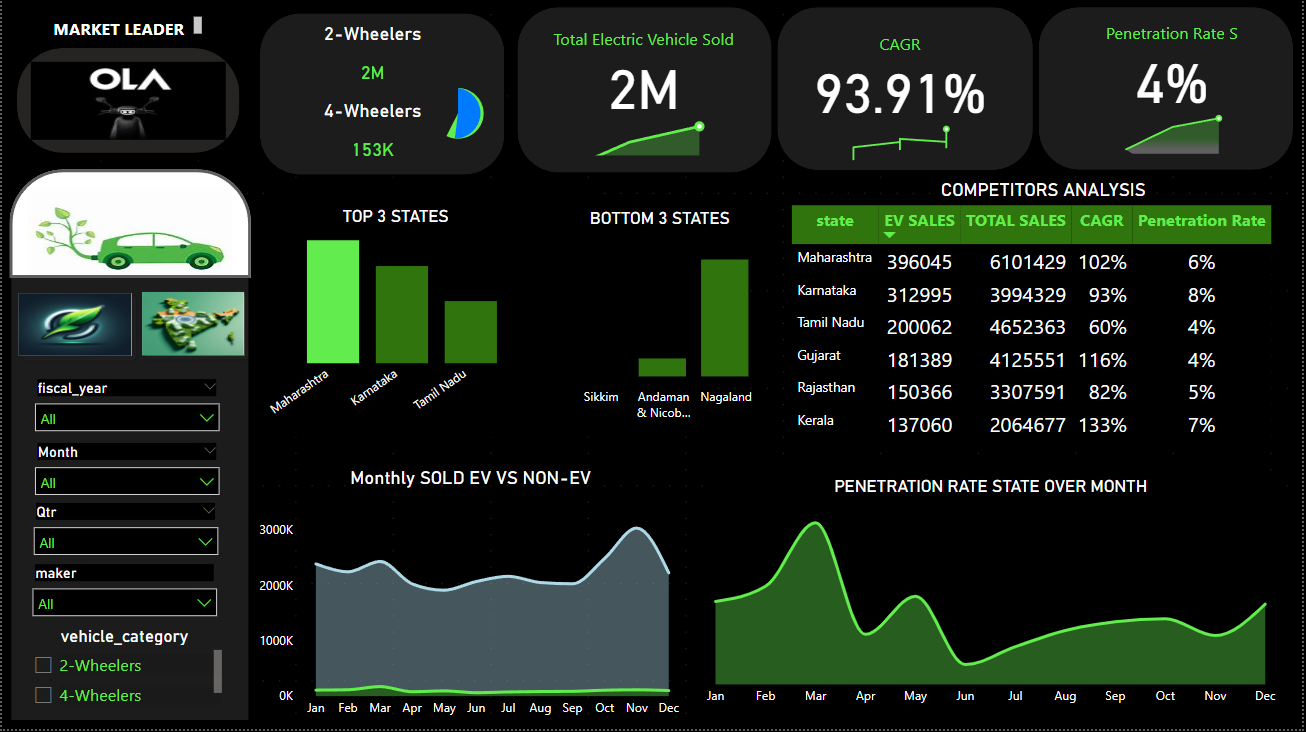

The page's visual inventory and layout, read from the dashboard file:
{"tool":"powerbi","page":{"name":"STATE","canvas":[1280,720],"ordinal":2},"visuals":[{"type":"shape","box":[0,163.5,251.8,556.5],"z":0,"group":"g7"},{"type":"shape","box":[771.3,187.7,470.3,251.8],"z":0,"group":"g5"},{"type":"shape","box":[247.7,176.7,279.7,267.1],"z":1000,"group":"g2"},{"type":"pivotTable","title":"COMPETITORS ANALYSIS","fields":{"Values":["Sum(electric_vehicle_sales_by_state.electric_vehicles_sold)","Sum(electric_vehicle_sales_by_state.total_vehicles_sold)","electric_vehicle_sales_by_state.CAGR_s","electric_vehicle_sales_by_state.Penetration Rate S"],"Rows":["electric_vehicle_sales_by_state.state"]},"box":[772.2,178.8,504.6,273.2],"z":1000,"group":"g5"},{"type":"slicer","fields":{"Values":["dim_date.fiscal_year"]},"box":[22.3,370.1,201.7,62.6],"z":1000,"group":"g7"},{"type":"shape","box":[523.8,188.2,178.1,251.8],"z":2000,"group":"g3"},{"type":"slicer","fields":{"Values":["Calender.Month"]},"box":[22.3,432.7,201.7,58.4],"z":2000,"group":"g7"},{"type":"columnChart","title":"BOTTOM 3 STATES","fields":{"Category":["electric_vehicle_sales_by_state.state"],"Y":["Sum(electric_vehicle_sales_by_state.electric_vehicles_sold)"]},"box":[527.4,206.5,239.3,217],"z":3000,"group":"g3"},{"type":"slicer","fields":{"Values":["Calender.Qtr"]},"box":[20.9,492.5,201.7,59.8],"z":3000,"group":"g7"},{"type":"slicer","title":"vehicle_category","fields":{"Values":["electric_vehicle_sales_by_makers.vehicle_category"]},"box":[19.5,617.8,201.7,83.5],"z":4000,"group":"g7"},{"type":"columnChart","title":"TOP 3 STATES","fields":{"Category":["electric_vehicle_sales_by_state.state"],"Y":["Sum(electric_vehicle_sales_by_state.electric_vehicles_sold)"]},"box":[252.2,203.6,270.2,223.5],"z":5000,"group":"g2"},{"type":"slicer","fields":{"Values":["electric_vehicle_sales_by_makers.maker"]},"box":[19.5,552.4,201.7,62.6],"z":5000,"group":"g7"},{"type":"actionButton","box":[7,168.4,237.9,107.1],"z":6000,"group":"g7"},{"type":"shape","box":[0,0,251.8,168.3],"z":7000},{"type":"shape","box":[498.5,0,268.3,180.9],"z":8000},{"type":"shape","box":[754.5,0,269.5,178.5],"z":9000},{"type":"shape","box":[1011.5,0,268.5,178.1],"z":10000},{"type":"cardVisual","fields":{"Data":["electric_vehicle_sales_by_state.Penetration Rate S"]},"box":[1024,5.6,256,161.4],"z":11000},{"type":"textbox","box":[45.9,13.9,155.8,29.2],"z":12000},{"type":"actionButton","box":[14.8,49.2,219.1,103.4],"z":13000},{"type":"group","id":"g1","title":"Group 1","box":[249,180.9,345,251.8],"z":14000},{"type":"stackedAreaChart","title":"Monthly SOLD EV VS NON-EV","fields":{"Y":["Sum(electric_vehicle_sales_by_state.electric_vehicles_sold)","Sum(electric_vehicle_sales_by_state.Non_electric_vehicle)"],"Category":["Calender.Month"]},"box":[249,461.9,425.7,256],"z":15000},{"type":"group","id":"g2","title":"Group 3","box":[247.7,176.7,279.7,267.1],"z":16000},{"type":"cardVisual","fields":{"Data":["electric_vehicle_sales_by_makers.CAGR"]},"box":[772.2,13.9,225.4,175.3],"z":17000},{"type":"group","id":"g3","title":"Group 2","box":[523.8,188.2,242.9,251.8],"z":18000},{"type":"group","id":"g4","title":"Group 4","box":[674.5,461.5,604.3,256],"z":19000},{"type":"group","id":"g5","title":"Group 7","box":[771.3,178.8,505.5,273.2],"z":20000},{"type":"shape","box":[249,180.9,345.3,251.6],"z":20000,"group":"g1"},{"type":"shape","box":[674.5,461.5,604.3,256],"z":20000,"group":"g4"},{"type":"cardVisual","fields":{"Data":["Sum(electric_vehicle_sales_by_makers.electric_vehicles_sold)"]},"box":[492.5,0,279.7,172.5],"z":21000},{"type":"stackedAreaChart","title":" PENETRATION RATE STATE  OVER MONTH","fields":{"Category":["Calender.Month","electric_vehicle_sales_by_state.state"],"Y":["electric_vehicle_sales_by_state.Penetration Rate S"]},"box":[678.8,470.7,590.5,234.9],"z":21000,"group":"g4"},{"type":"shape","box":[244.9,5.6,258.8,176.7],"z":22000},{"type":"group","id":"g6","title":"Group 5","box":[224,0,282.4,281],"z":23000},{"type":"cardVisual","fields":{"Data":["Min(electric_vehicle_sales_by_state.vehicle_category)","MEASURE.sold_of_2-wheelers","Max(electric_vehicle_sales_by_state.vehicle_category)","MEASURE.sold_of_4-wheelers"]},"box":[278,0,219.8,281],"z":23000,"group":"g6"},{"type":"cardVisual","fields":{"Data":["Min(electric_vehicle_sales_by_state.vehicle_category)","MEASURE.sold_of_2-wheelers","Max(electric_vehicle_sales_by_state.vehicle_category)","MEASURE.sold_of_4-wheelers"]},"box":[224,0,282.4,164.2],"z":24000,"group":"g6"},{"type":"actionButton","box":[7,281.1,129.4,79.3],"z":24000,"group":"g7"},{"type":"actionButton","box":[129.2,280.6,118.2,80],"z":25001,"group":"g7"},{"type":"group","id":"g7","title":"Group 6","box":[0,163.5,251.8,556.5],"z":25002}]}

Visuals, with their boxes in screenshot pixels (x1, y1, x2, y2), scaled from the page's 1280x720 canvas onto the 1306x732 screenshot:
shape: 0:166:257:731
shape: 787:191:1267:447
shape: 253:180:538:451
"COMPETITORS ANALYSIS" pivotTable: 788:182:1303:460
slicer - dim_date.fiscal_year: 23:376:229:440
shape: 534:191:716:447
slicer - Calender.Month: 23:440:229:499
"BOTTOM 3 STATES" columnChart: 538:210:782:431
slicer - Calender.Qtr: 21:501:227:562
"vehicle_category" slicer: 20:628:226:713
"TOP 3 STATES" columnChart: 257:207:533:434
slicer - electric_vehicle_sales_by_makers.maker: 20:562:226:625
actionButton: 7:171:250:280
shape: 0:0:257:171
shape: 509:0:782:184
shape: 770:0:1045:181
shape: 1032:0:1305:181
cardVisual - electric_vehicle_sales_by_state.Penetration Rate S: 1045:6:1305:170
textbox: 47:14:206:44
actionButton: 15:50:239:155
"Group 1" group: 254:184:606:440
"Monthly SOLD EV VS NON-EV" stackedAreaChart: 254:470:688:730
"Group 3" group: 253:180:538:451
cardVisual - electric_vehicle_sales_by_makers.CAGR: 788:14:1018:192
"Group 2" group: 534:191:782:447
"Group 4" group: 688:469:1305:729
"Group 7" group: 787:182:1303:460
shape: 254:184:606:440
shape: 688:469:1305:729
cardVisual - Sum(electric_vehicle_sales_by_makers.electric_vehicles_sold): 503:0:788:175
" PENETRATION RATE STATE  OVER MONTH" stackedAreaChart: 693:479:1295:717
shape: 250:6:514:185
"Group 5" group: 229:0:517:286
cardVisual - Min(electric_vehicle_sales_by_state.vehicle_category) x MEASURE.sold_of_2-wheelers: 284:0:508:286
cardVisual - Min(electric_vehicle_sales_by_state.vehicle_category) x MEASURE.sold_of_2-wheelers: 229:0:517:167
actionButton: 7:286:139:366
actionButton: 132:285:252:367
"Group 6" group: 0:166:257:731
